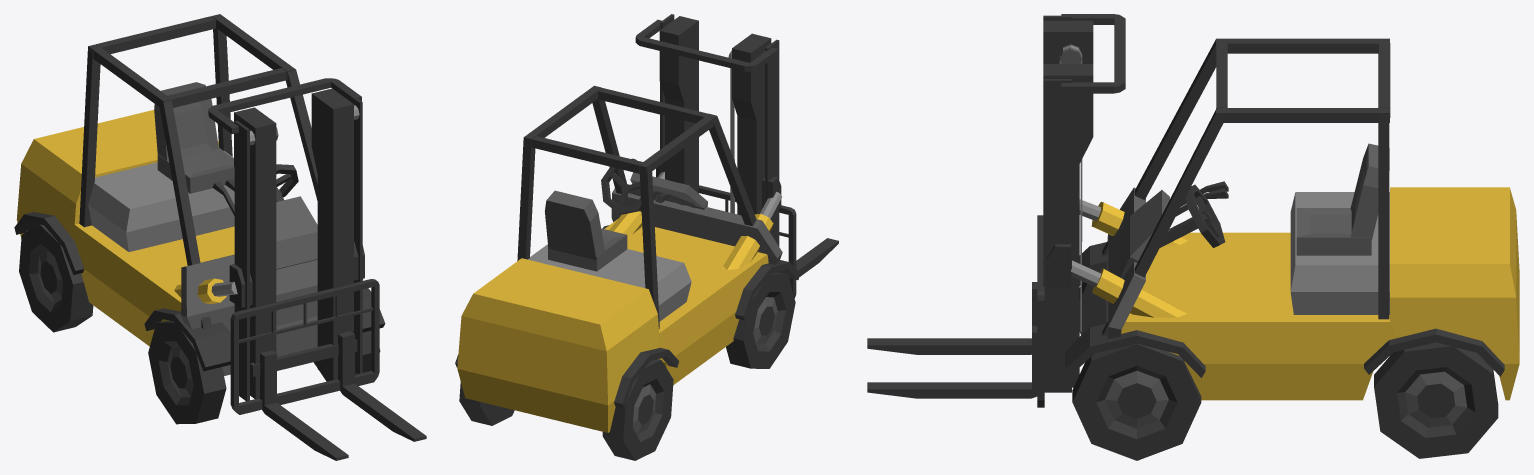
The model's file is forklift.glb.
3 views of the same model, side by side, from view 1: azimuth 30°, elevation 25°; view 2: azimuth 150°, elevation 25°; view 3: azimuth 270°, elevation 25° (orthographic). The views are drawn at different scales.
Visible parts, largest first — view 1: Cylinder.002; view 2: Cylinder.002; view 3: Cylinder.002.
Part boxes in pixels (x1,y1,x2,y2): Cylinder.002: (14,14,426,460); Cylinder.002: (455,14,838,460); Cylinder.002: (867,14,1519,460).
Size of the model in its own units: 0.8461 by 1.42 by 2.31.
